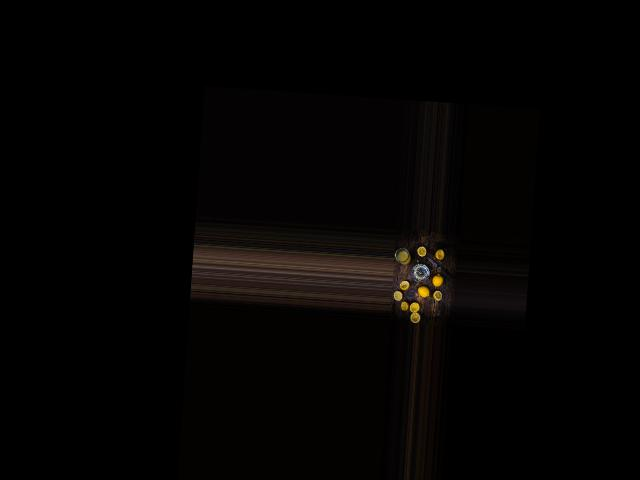lemon: (430, 273, 443, 291)
